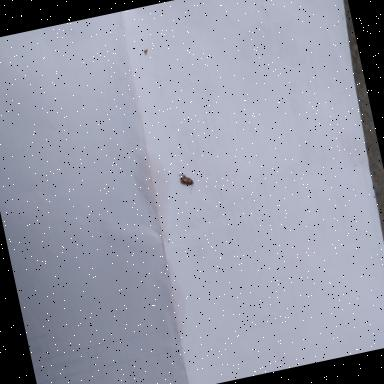pbw: (178, 170, 196, 196)
